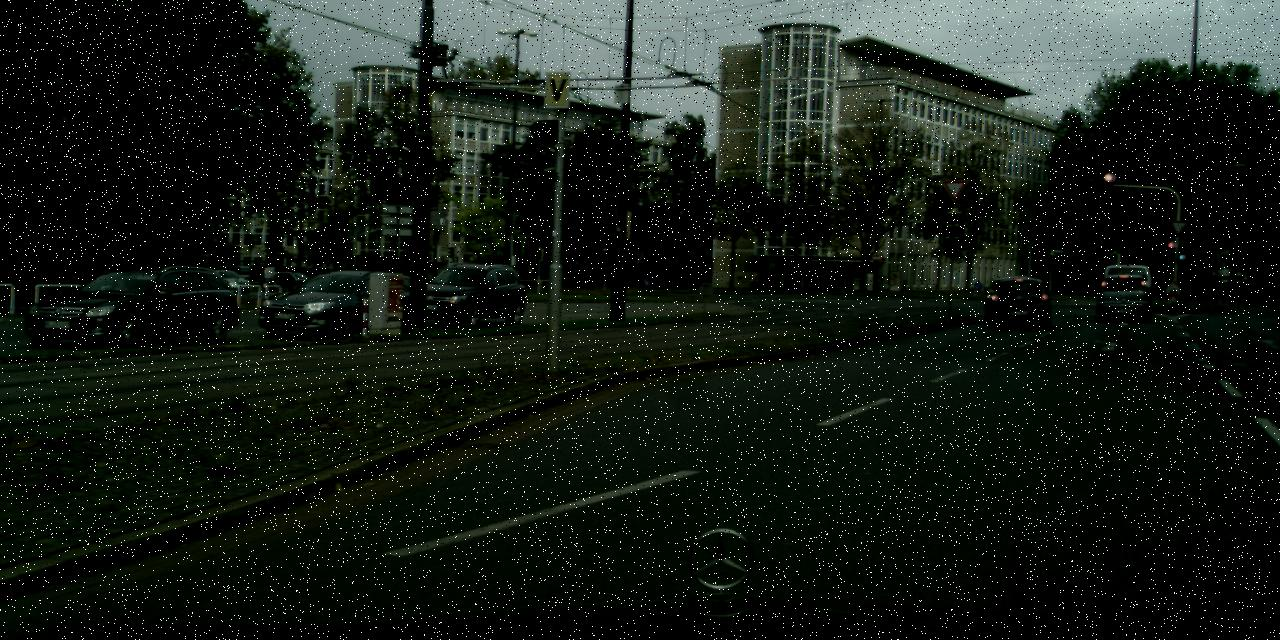ped: (751, 271, 758, 289)
